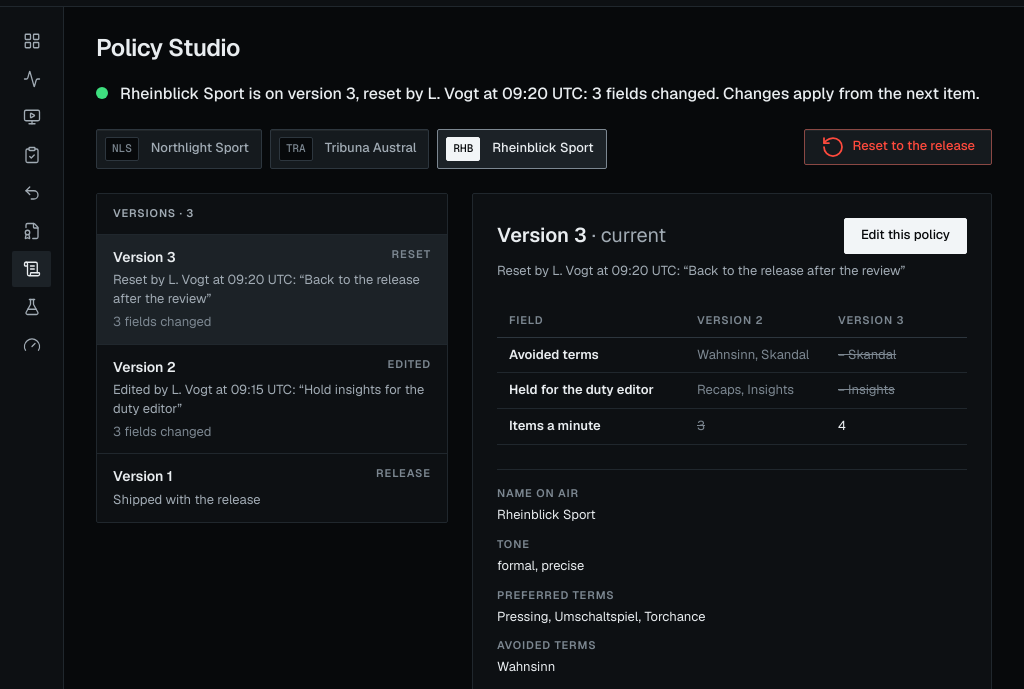
it: PolicyStudio › keeps the desk on screen while it reads the policy again
Expected: the list named "Versions" is shown, x1=97 y1=235 x2=447 y2=522
Click the button "Edit this policy": point(905, 236) x1=844 y1=218 x2=967 y2=254
(page scrolled)
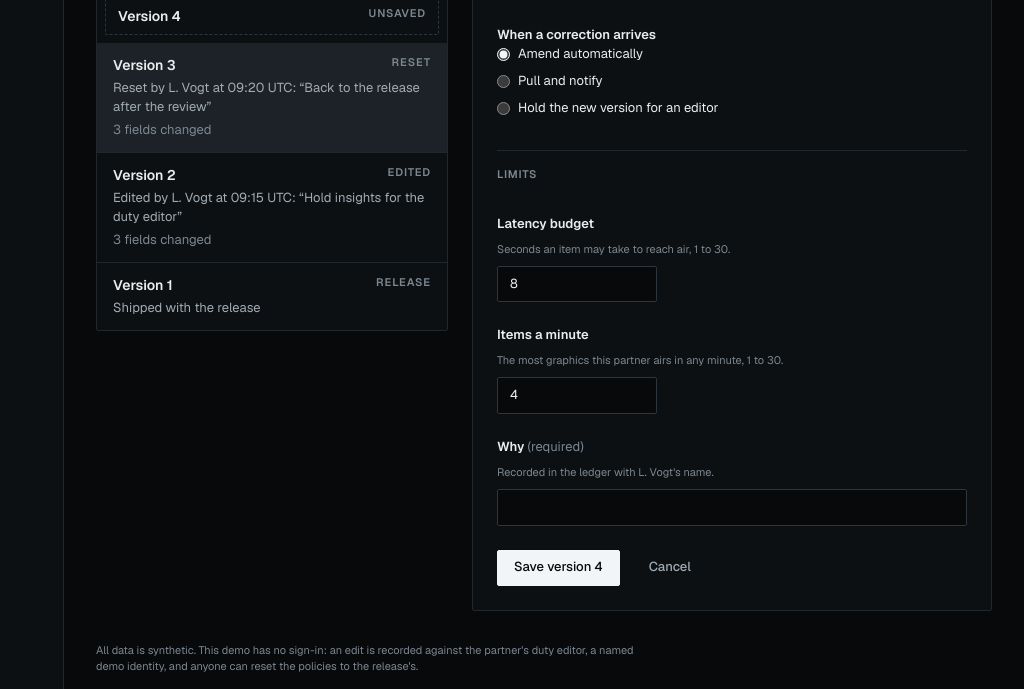
In the field labelled "Why (required)": point(732, 507) x1=497 y1=489 x2=967 y2=526, type "Again"
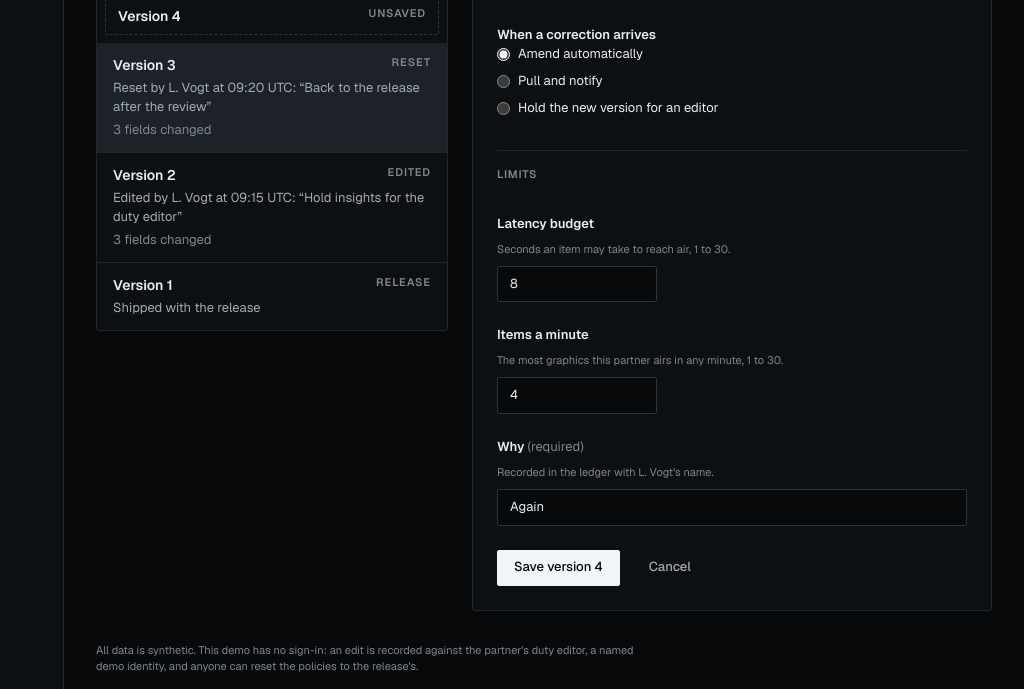
Click the button "Save version 4": point(558, 568) x1=497 y1=550 x2=620 y2=586
(page scrolled)
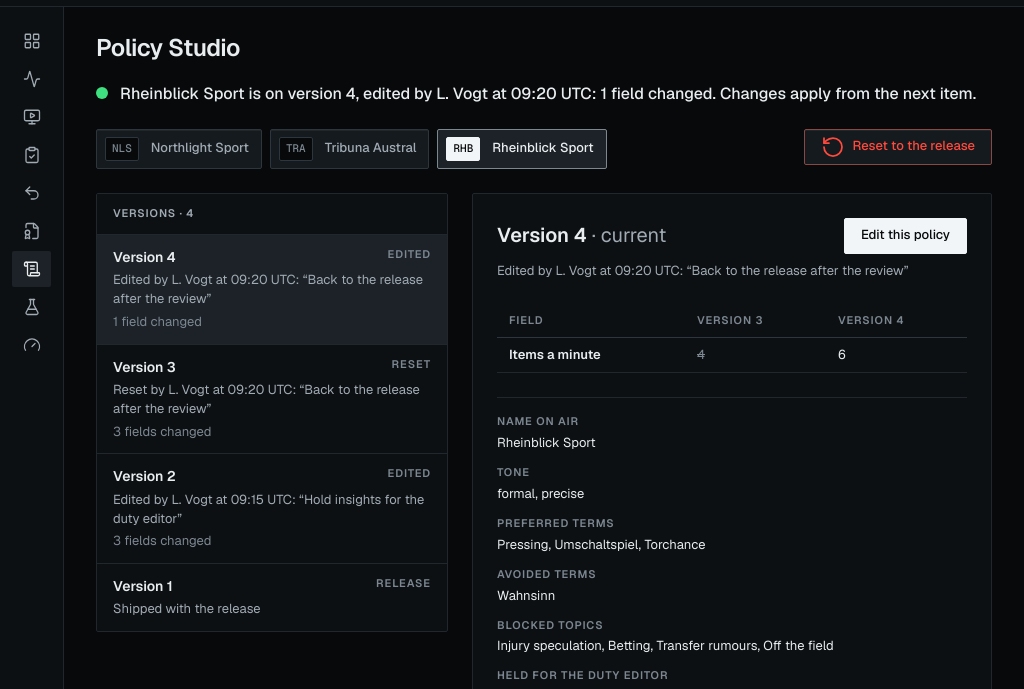
Expected: the list named "Versions" is shown, x1=97 y1=235 x2=447 y2=631
Result: the heading "Version 4 · current" is shown at x1=497 y1=221 x2=666 y2=250
